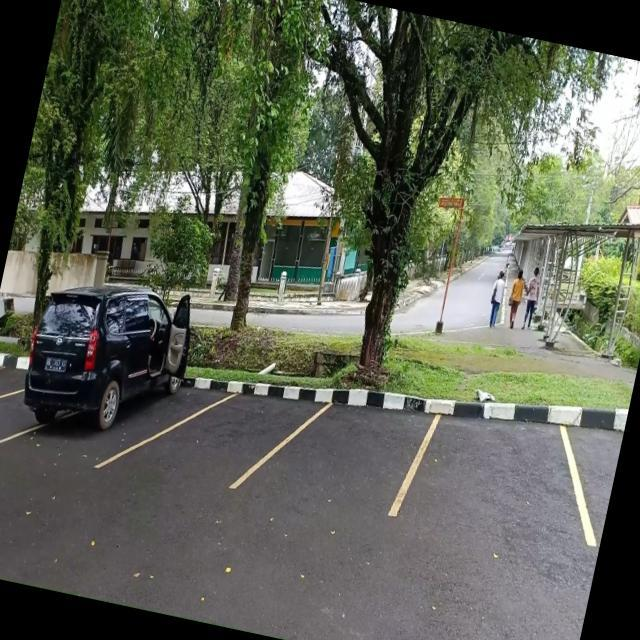empty: (404, 382, 590, 554), (272, 376, 426, 521), (149, 364, 298, 501)
occupied: (7, 326, 184, 481)
